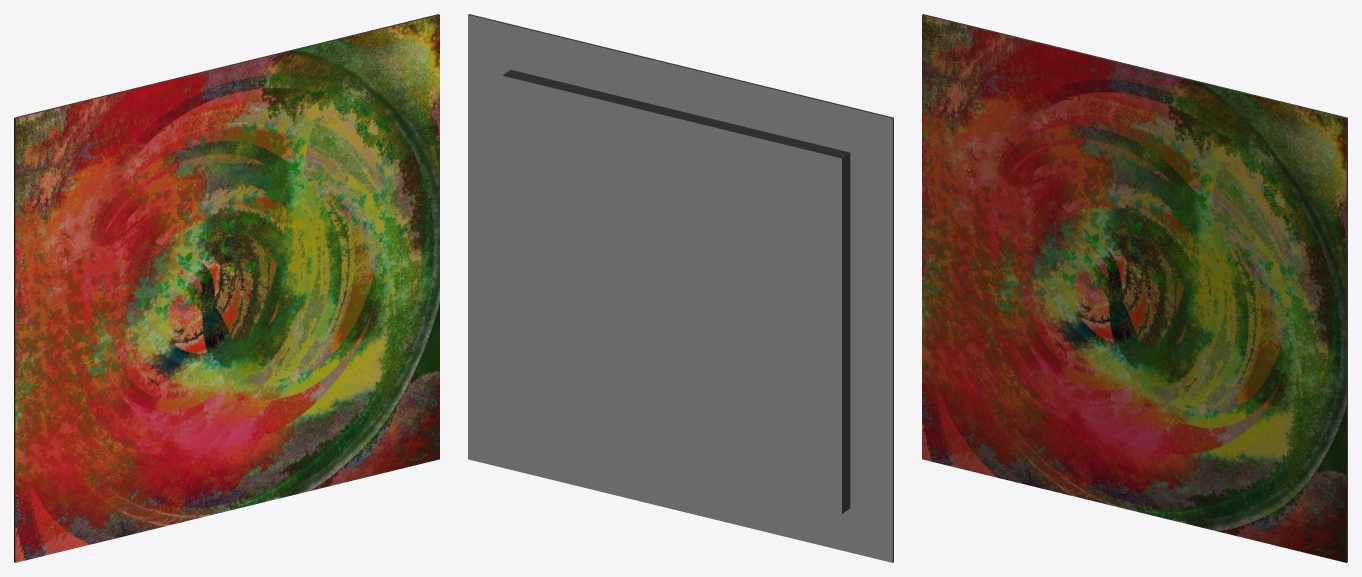
Rendered from va181_moyen_dibond.glb.
3 renders of one model, left to right at view 1: azimuth 30°, elevation 25°; view 2: azimuth 150°, elevation 25°; view 3: azimuth 330°, elevation 25°, orthographic.
Visible parts, largest first — view 1: va181_moyen_dibond; view 2: va181_moyen_dibond; view 3: va181_moyen_dibond.
Boxes of the visible parts, bbox=[...] form: va181_moyen_dibond: bbox=[14, 14, 439, 562]; va181_moyen_dibond: bbox=[468, 14, 893, 562]; va181_moyen_dibond: bbox=[922, 14, 1347, 562].
Size of the model in its own units: 0.6 by 0.6 by 0.023.
Materials: 4 (1 with a texture image).
